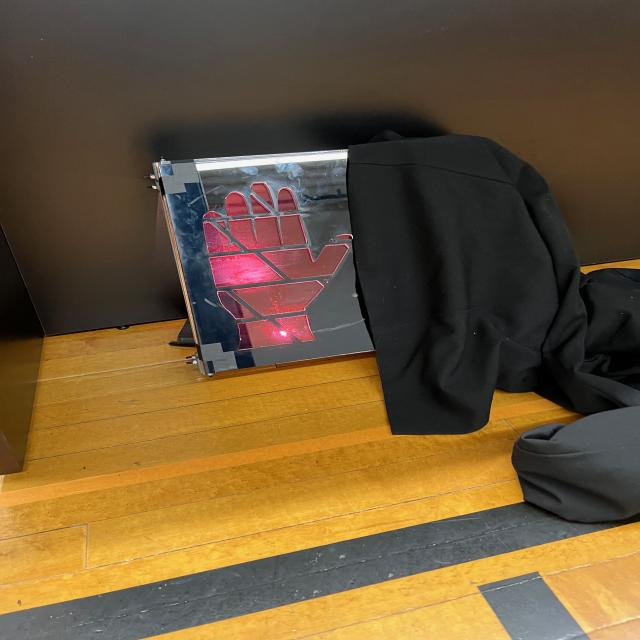stop: (158, 146, 369, 376)
